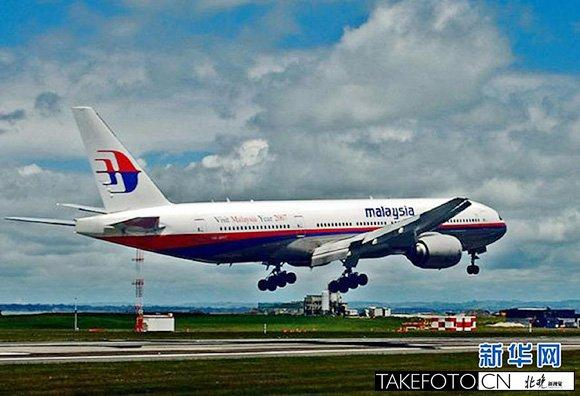airplane: (20, 104, 508, 284)
